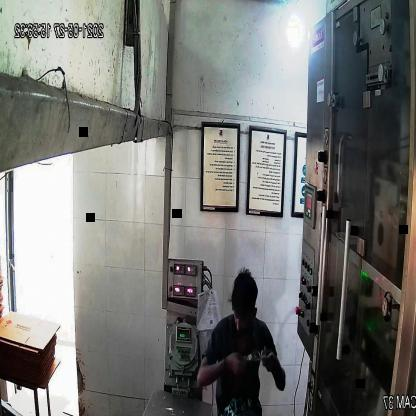no_goggles: (231, 309, 259, 328)
